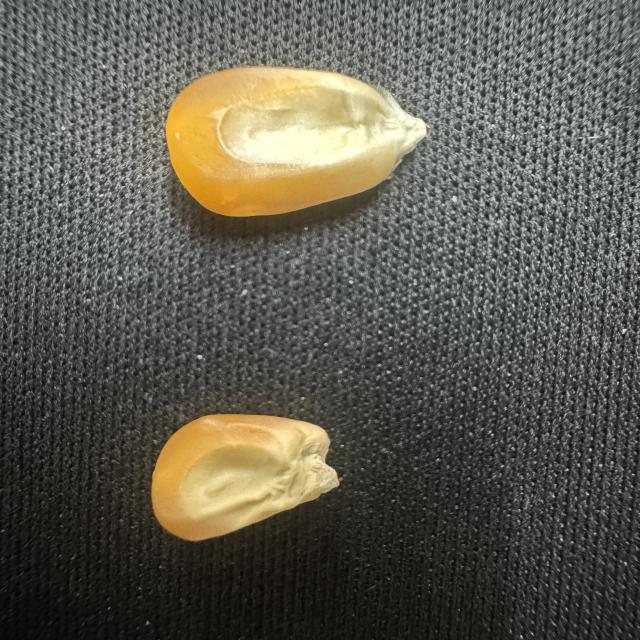Bad-Seed: (136, 396, 353, 548)
Good-Seed: (153, 58, 441, 232)
